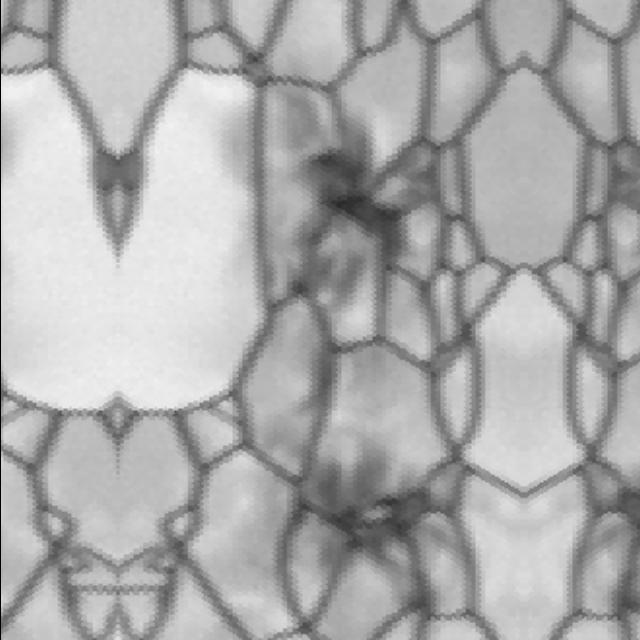good_void: (267, 92, 458, 306), (274, 421, 464, 628), (584, 443, 640, 628)
